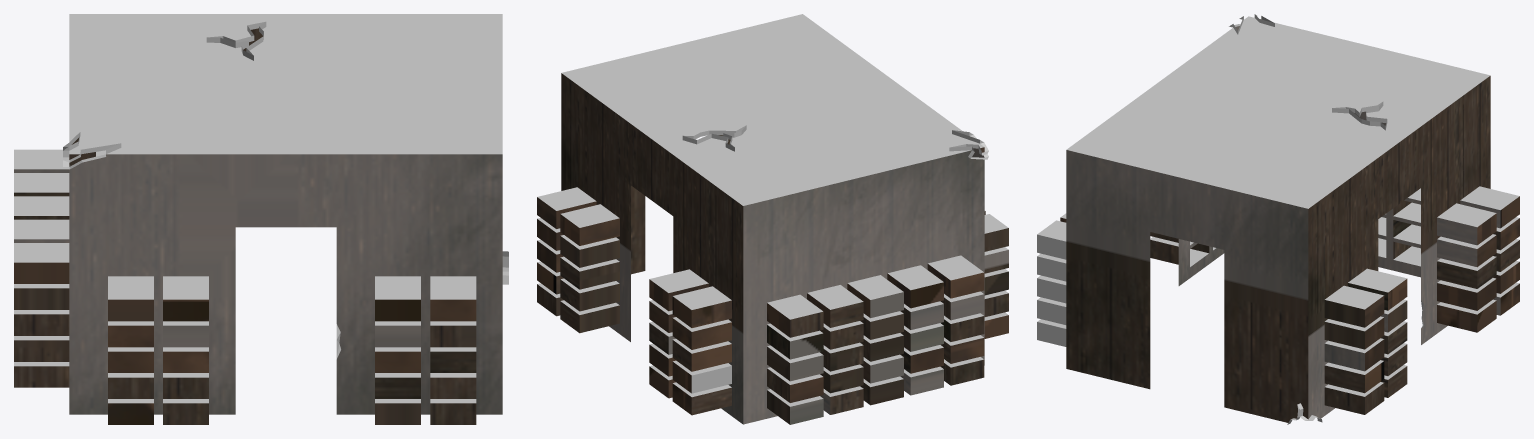
The model's file is Chamber2W.fbx.
3 renders of one model, left to right at view 1: azimuth 30°, elevation 25°; view 2: azimuth 150°, elevation 25°; view 3: azimuth 270°, elevation 25°, orthographic. The views are drawn at different scales.
Parts seen in each view (by area): view 1: Chamber_2.008, Chamber_2.001, Chamber_2.004, Chamber_2.005, Chamber_2; view 2: Chamber_2.005, Chamber_2.001, Chamber_2.006, Chamber_2, Chamber_2.002, Chamber_2.008, Chamber_2.007, Chamber_2.004; view 3: Chamber_2.001, Chamber_2.007, Chamber_2.006, Chamber_2.002, Chamber_2.004, Chamber_2.008, Chamber_2.005, Chamber_2.
Boxes of the visible parts, x1,y1,x2,y2 form: Chamber_2.008: [69, 154, 502, 424]; Chamber_2.001: [63, 14, 502, 154]; Chamber_2.004: [69, 154, 476, 403]; Chamber_2.005: [14, 169, 69, 387]; Chamber_2: [14, 147, 69, 366]; Chamber_2.005: [743, 147, 984, 424]; Chamber_2.001: [562, 14, 984, 205]; Chamber_2.006: [537, 73, 743, 424]; Chamber_2: [767, 149, 988, 406]; Chamber_2.002: [537, 187, 731, 397]; Chamber_2.008: [972, 148, 1008, 338]; Chamber_2.007: [631, 135, 730, 274]; Chamber_2.004: [970, 135, 1008, 320]; Chamber_2.001: [1066, 14, 1490, 208]; Chamber_2.007: [1066, 150, 1308, 422]; Chamber_2.006: [1308, 76, 1519, 418]; Chamber_2.002: [1308, 186, 1519, 422]; Chamber_2.004: [1037, 19, 1240, 346]; Chamber_2.008: [1060, 26, 1239, 285]; Chamber_2.005: [1354, 111, 1420, 277]; Chamber_2: [1257, 16, 1420, 266].
Bounding box in the file's own units: 1754 × 889 × 1742.
